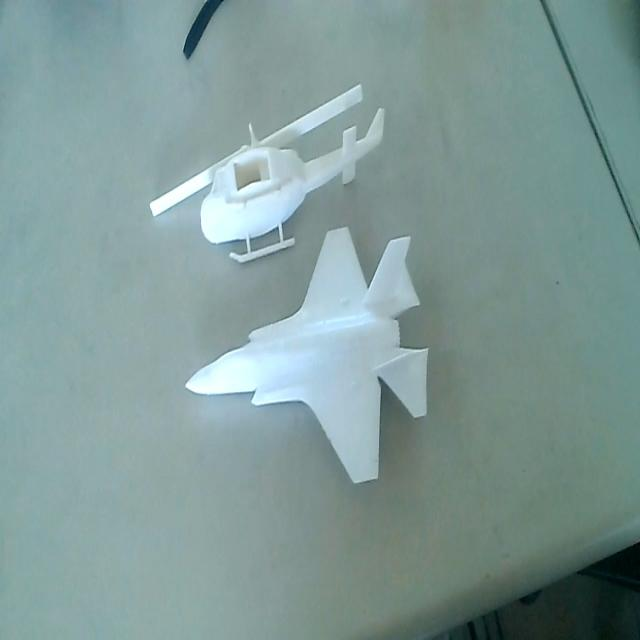Helicopter: (144, 79, 390, 266)
Jet: (182, 230, 430, 486)
